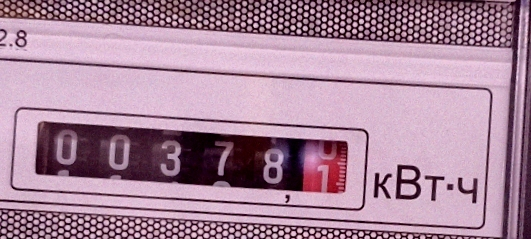0: (52, 124, 83, 167), (104, 131, 133, 172), (315, 138, 339, 162)
1: (311, 160, 334, 194)
3: (155, 136, 185, 179)
7: (208, 137, 235, 178)
8: (259, 144, 287, 186)
screen: (12, 90, 371, 218)
